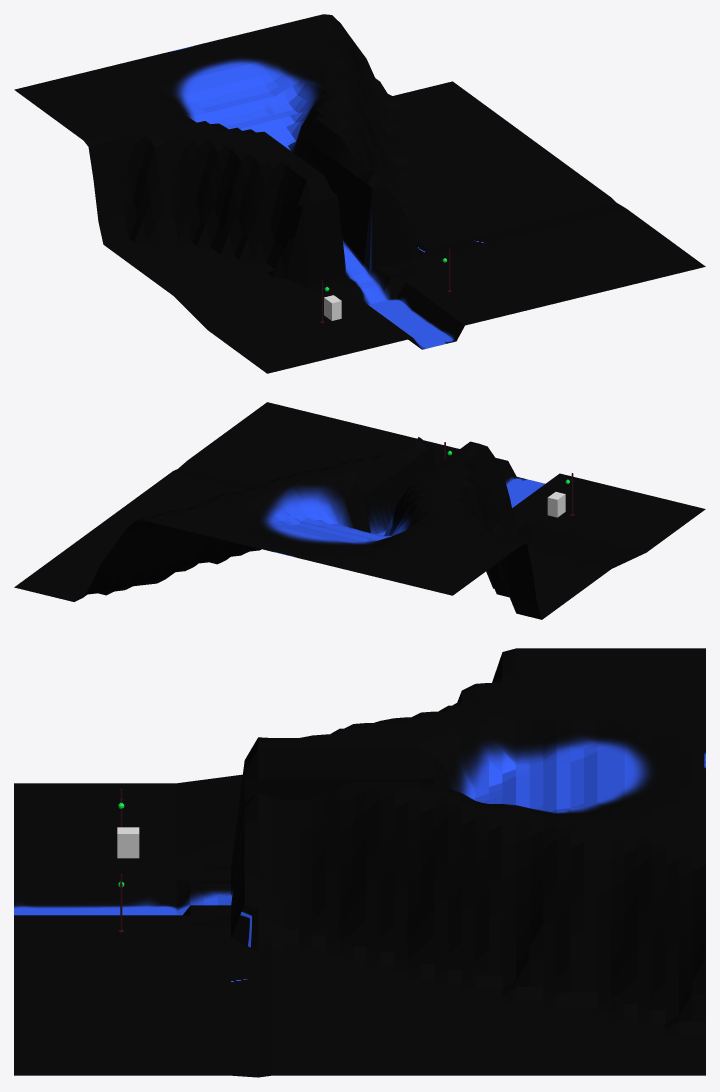
3 views of the same model, one above another, from view 1: azimuth 30°, elevation 25°; view 2: azimuth 150°, elevation 25°; view 3: azimuth 270°, elevation 25° (orthographic). The views are drawn at different scales.
Visible parts, largest first — view 1: Plane; view 2: Plane, stator; view 3: Plane, stator.
Part boxes in pixels (x1,y1,x2,y2): Plane: (14, 14, 705, 373); Plane: (14, 402, 705, 619); stator: (547, 492, 565, 517); Plane: (14, 648, 705, 1077); stator: (117, 827, 139, 858).
Size of the model in its own units: 200 by 49 by 200.
Materials: 3 (1 with a texture image).
